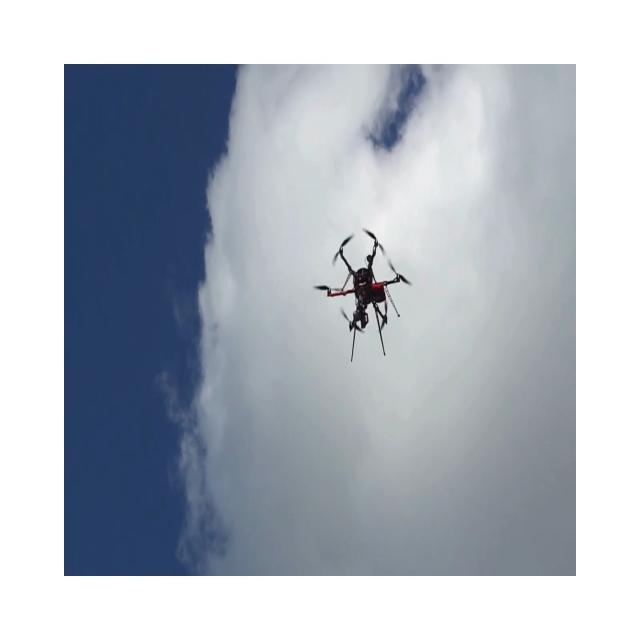drone: (313, 227, 412, 363)
